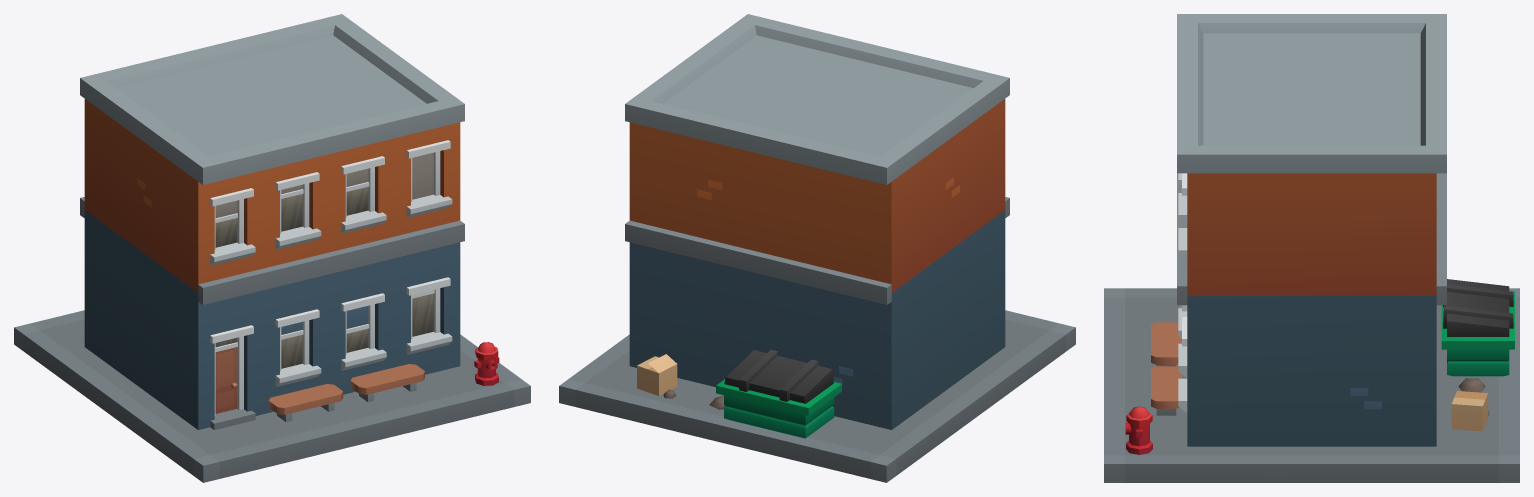
Rendered from Building B.glb.
The picture shows the model from 3 angles, left to right: view 1: azimuth 30°, elevation 25°; view 2: azimuth 150°, elevation 25°; view 3: azimuth 270°, elevation 25°; orthographic projection. The views are drawn at different scales.
Visible parts, largest first — view 1: building_B; view 2: building_B; view 3: building_B.
Boxes of the visible parts, x1,y1,x2,y2 form: building_B: (14, 14, 530, 482); building_B: (559, 14, 1075, 482); building_B: (1104, 14, 1519, 482).
Bounding box in the file's own units: 2 × 1.65 × 2.
1 material, 1 textured.
